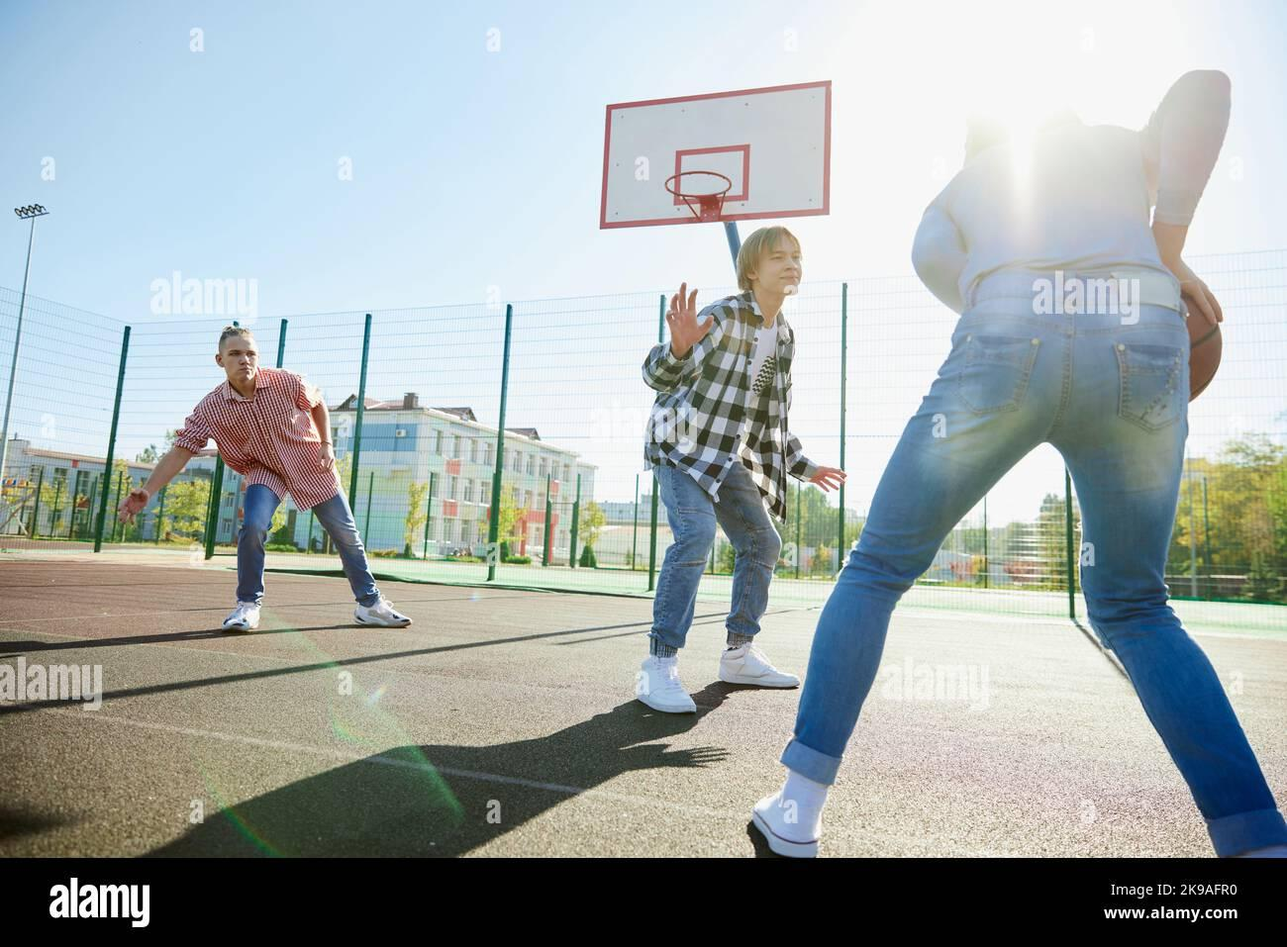basketball: (1175, 298, 1230, 396)
